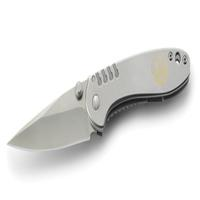knife: (2, 44, 193, 154)
